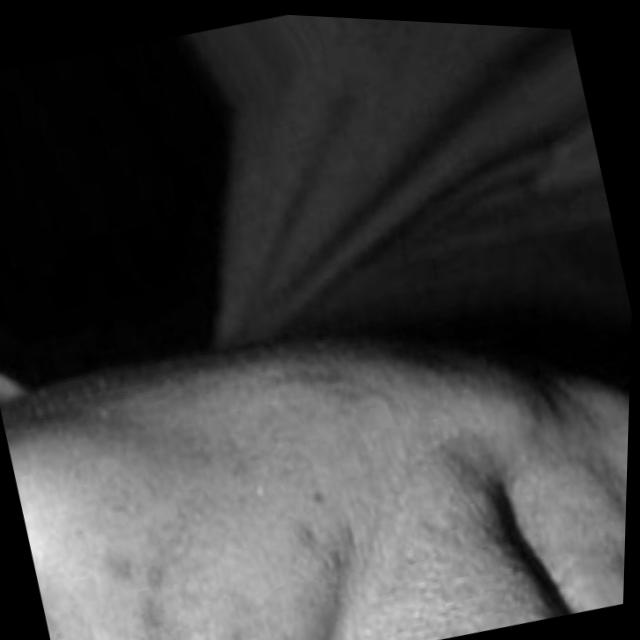Rosacea: (83, 513, 203, 640)
